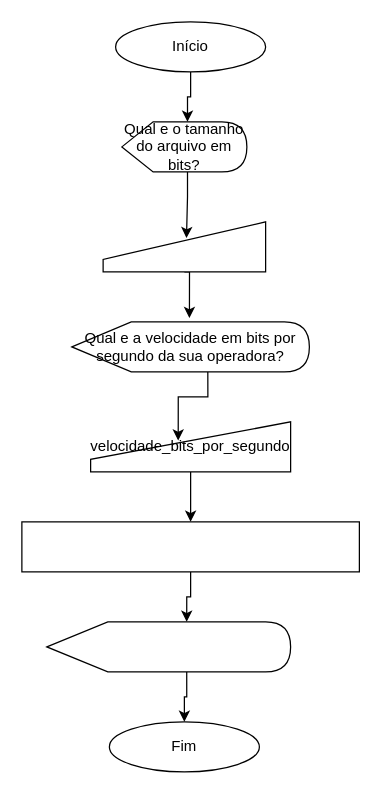
This 381x794 diagram has some shape labels left out. Each missing label, with the centre of its shape:
"O tempo aproximado para baixar e de: tempo_para_baixar" belongs at point (168, 646).
"tamanho_arquivo_em_bits" belongs at point (184, 246).
"tempo_para_baixar <- tamanho_arquivo_em_bits / velocidade_bits_por_segundo" belongs at point (190, 546).
